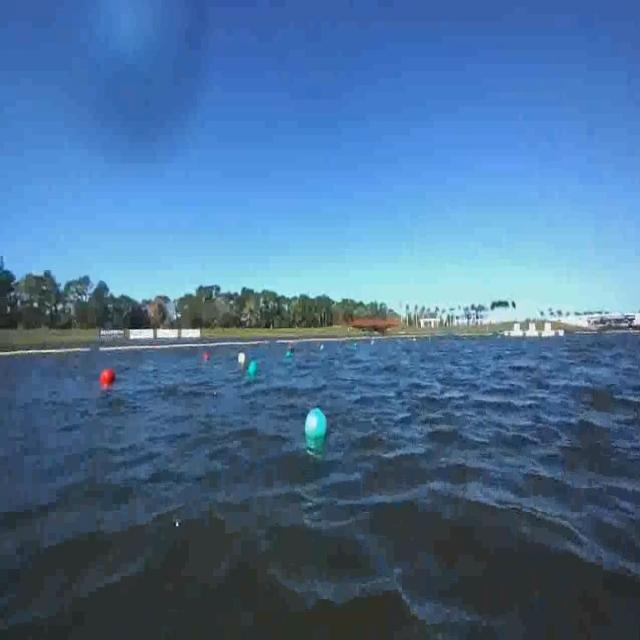green-buoy: (306, 408, 329, 443), (249, 359, 258, 376)
red-buoy: (101, 370, 117, 386)
